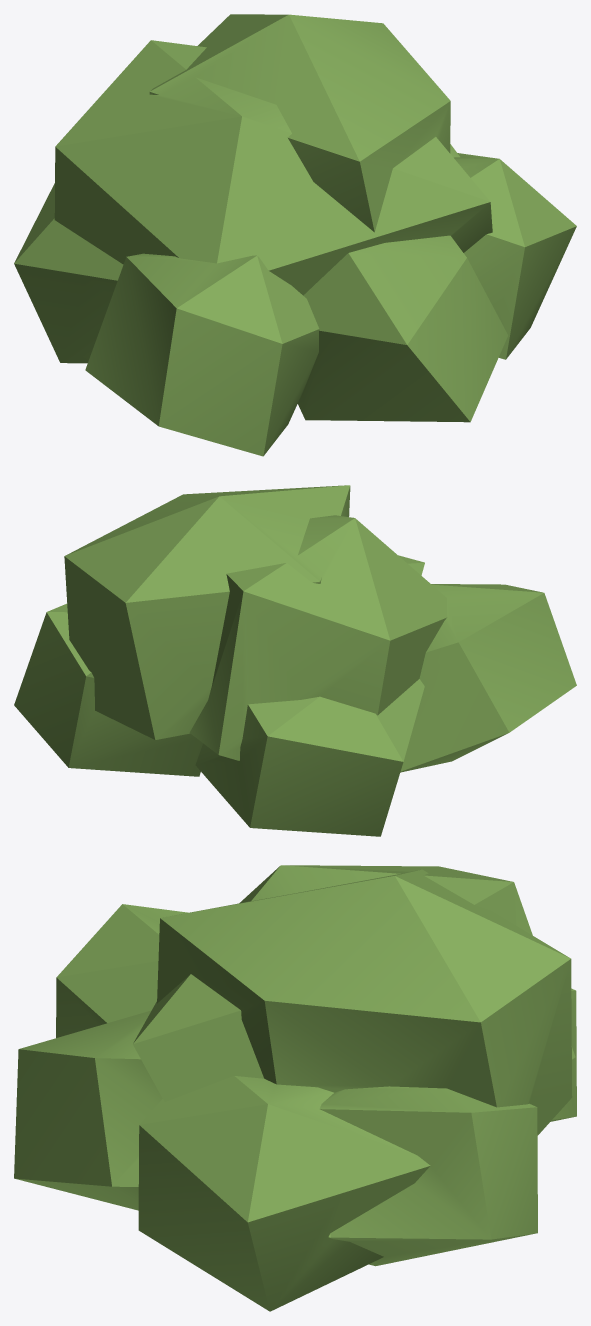
Rendered from largeBush.dae.
3 views of the same model, one above another, from view 1: azimuth 30°, elevation 25°; view 2: azimuth 150°, elevation 25°; view 3: azimuth 270°, elevation 25° (orthographic). The views are drawn at different scales.
Parts seen in each view (by area): view 1: Bush_Large_02; view 2: Bush_Large_02; view 3: Bush_Large_02.
Part boxes in pixels (x1=…): Bush_Large_02: x1=14, y1=14, x2=576, y2=456; Bush_Large_02: x1=14, y1=485, x2=576, y2=836; Bush_Large_02: x1=14, y1=865, x2=576, y2=1311.
Size of the model in its own units: 345 by 214 by 322.
